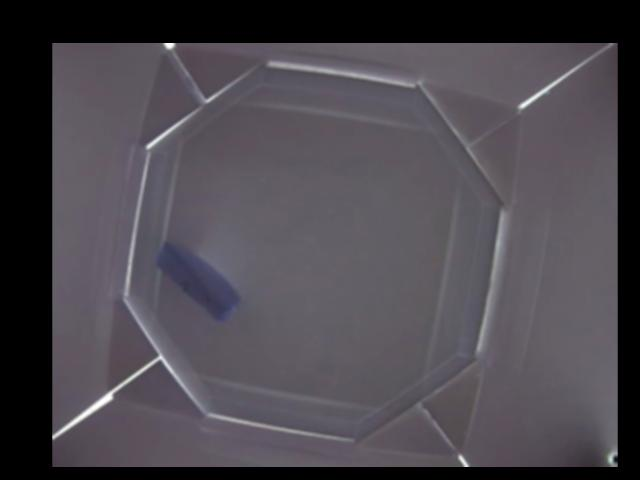Mooli: (153, 239, 240, 320)
